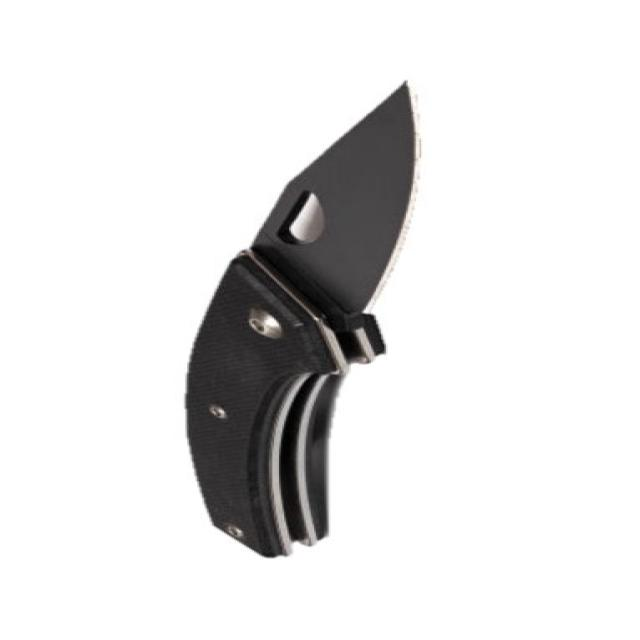knife: (162, 63, 442, 580)
